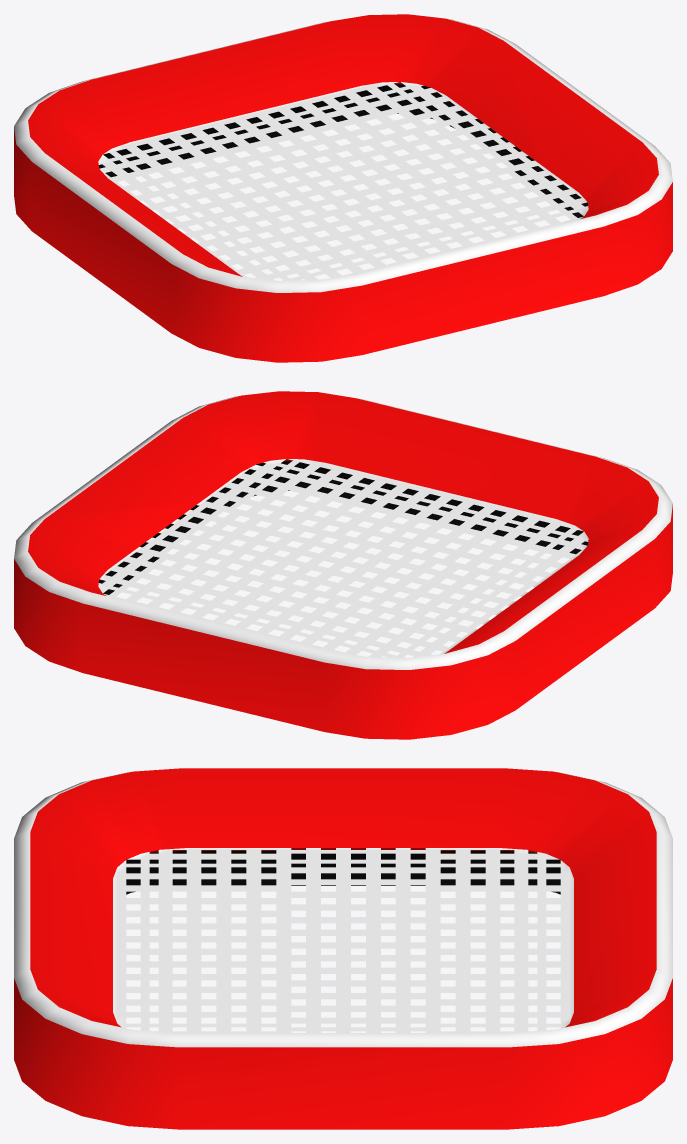
Rendered from Trampoline.fbx.
The picture shows the model from 3 angles, top to bottom: view 1: azimuth 30°, elevation 25°; view 2: azimuth 150°, elevation 25°; view 3: azimuth 270°, elevation 25°; orthographic projection. The views are drawn at different scales.
Visible parts, largest first — view 1: Cube; view 2: Cube; view 3: Cube.
Part boxes in pixels (left/top/right/bottom): Cube: left=14, top=14, right=672, bottom=362; Cube: left=14, top=391, right=672, bottom=739; Cube: left=14, top=768, right=672, bottom=1129.
Size of the model in its own units: 400 by 60 by 400.
Materials: 1 (1 with a texture image).
